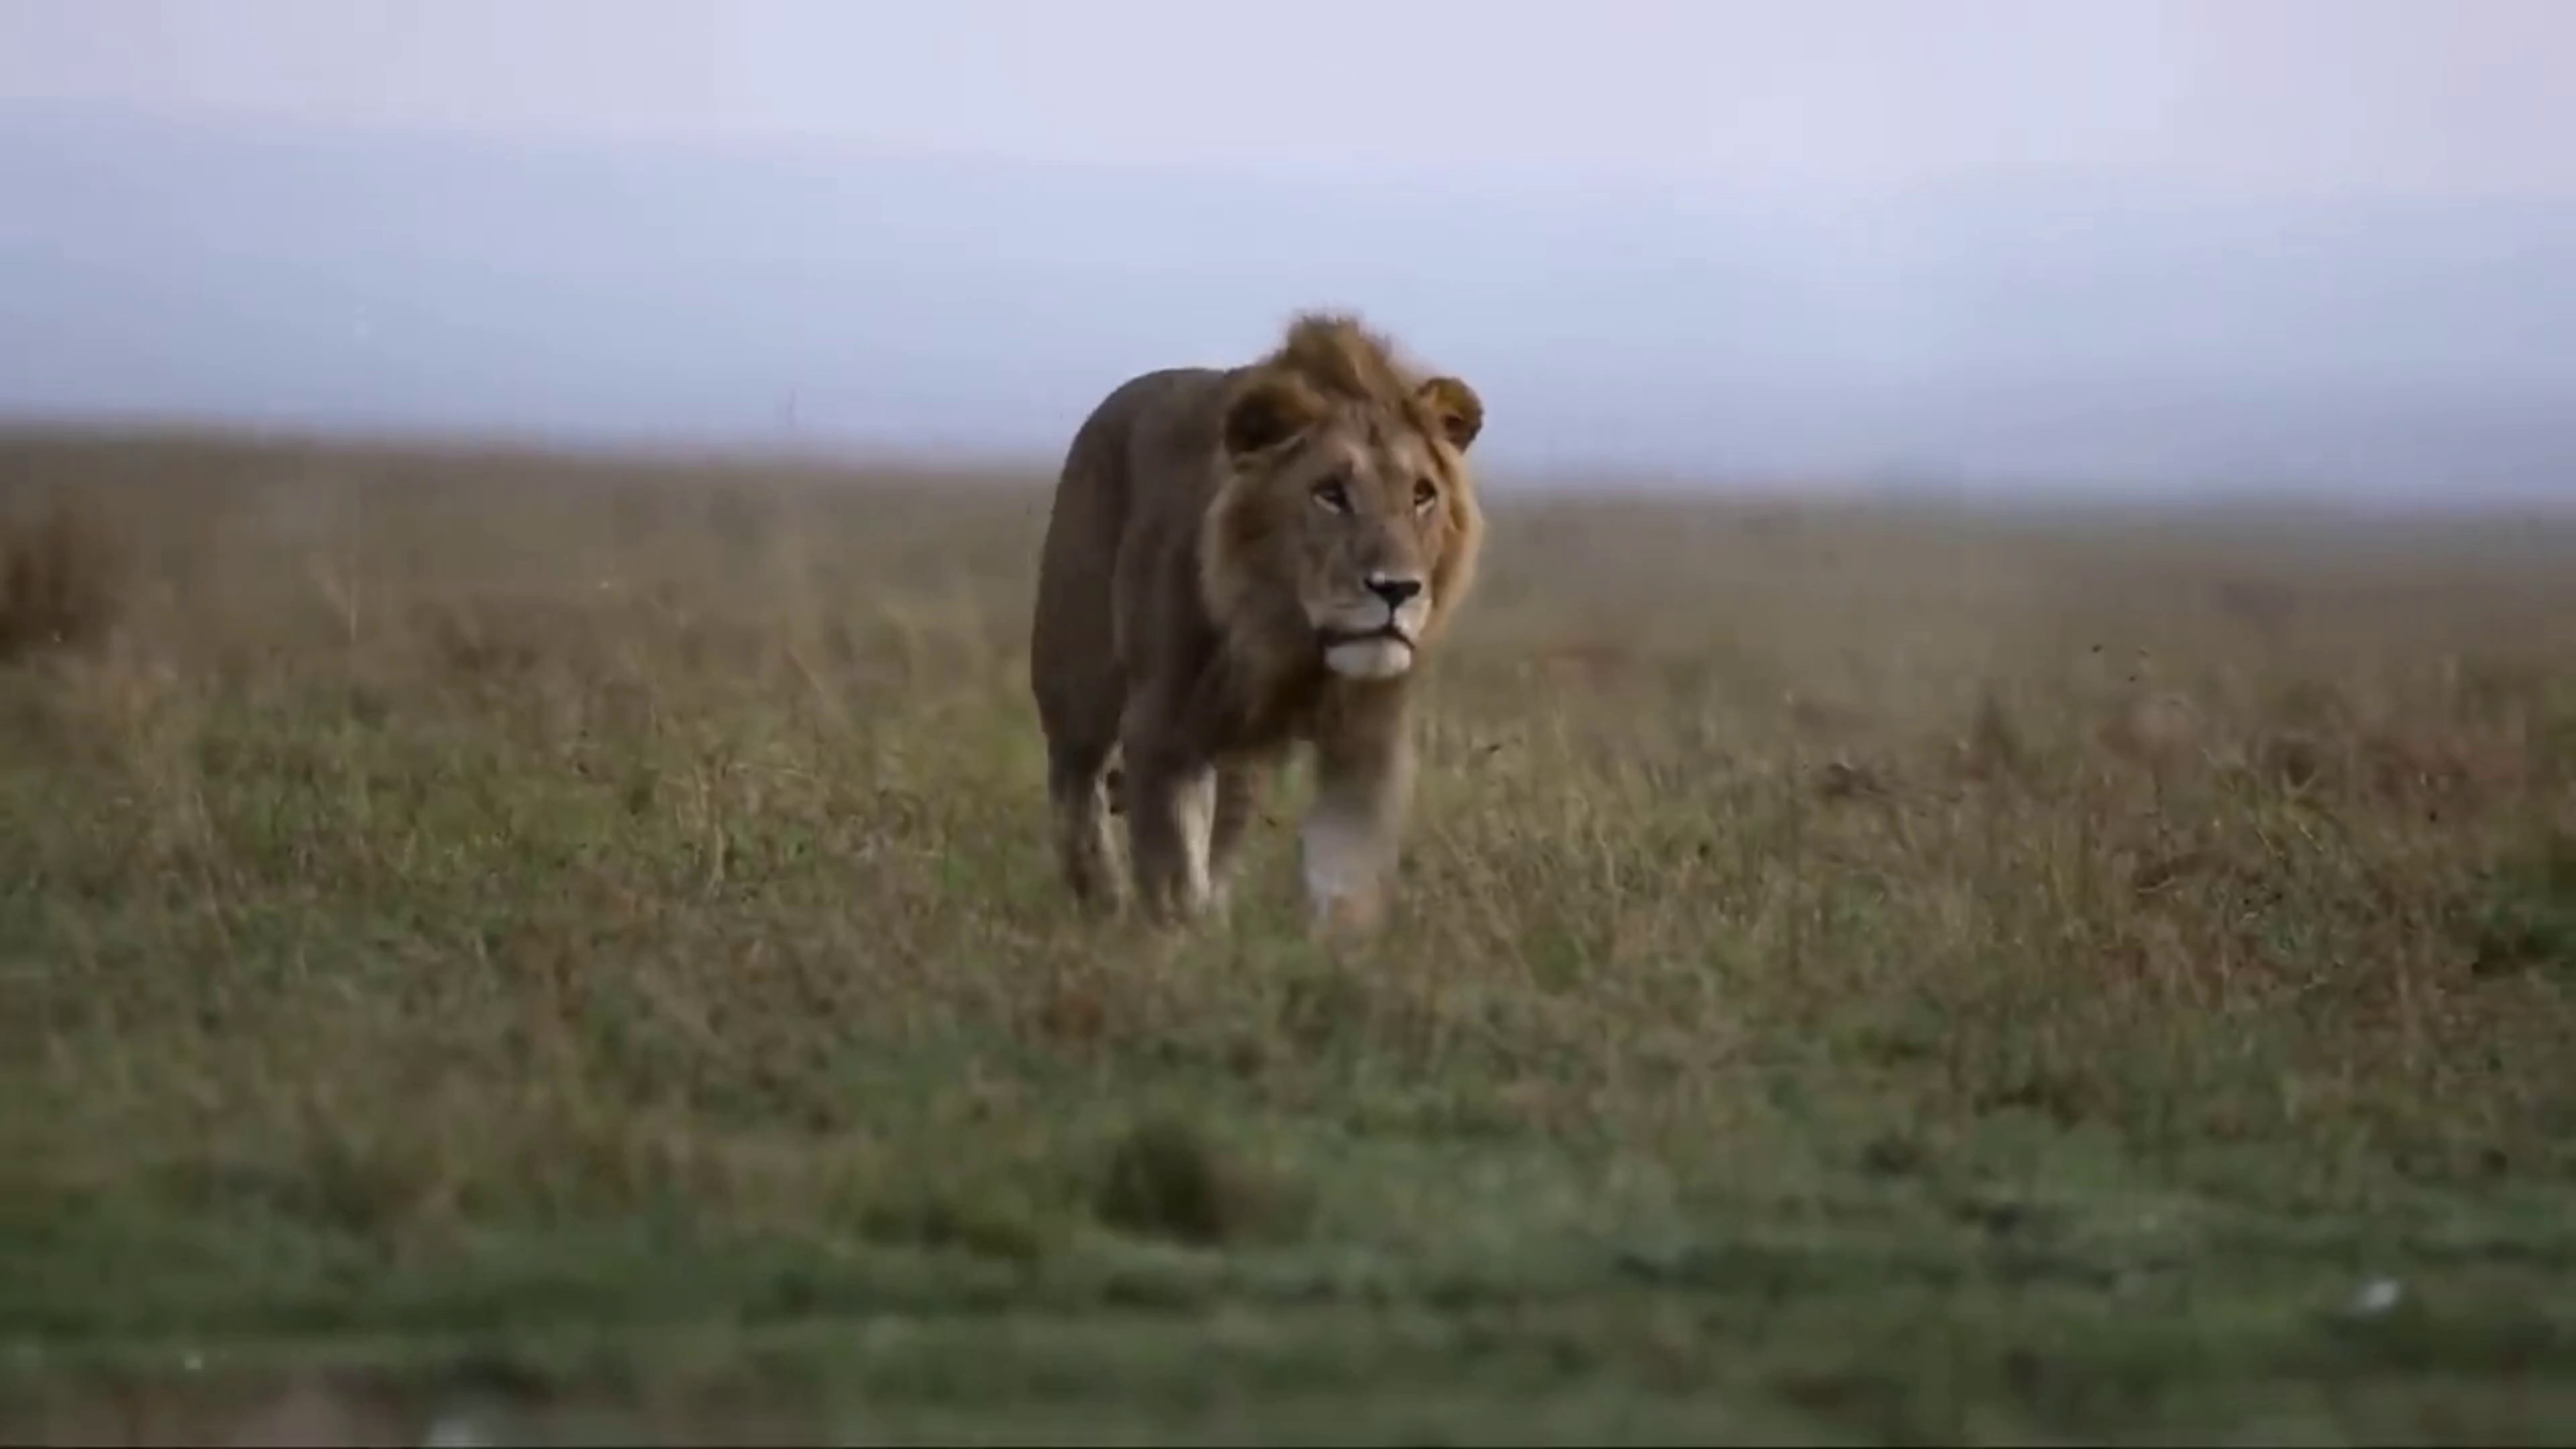Lion: (1028, 308, 1491, 947)
